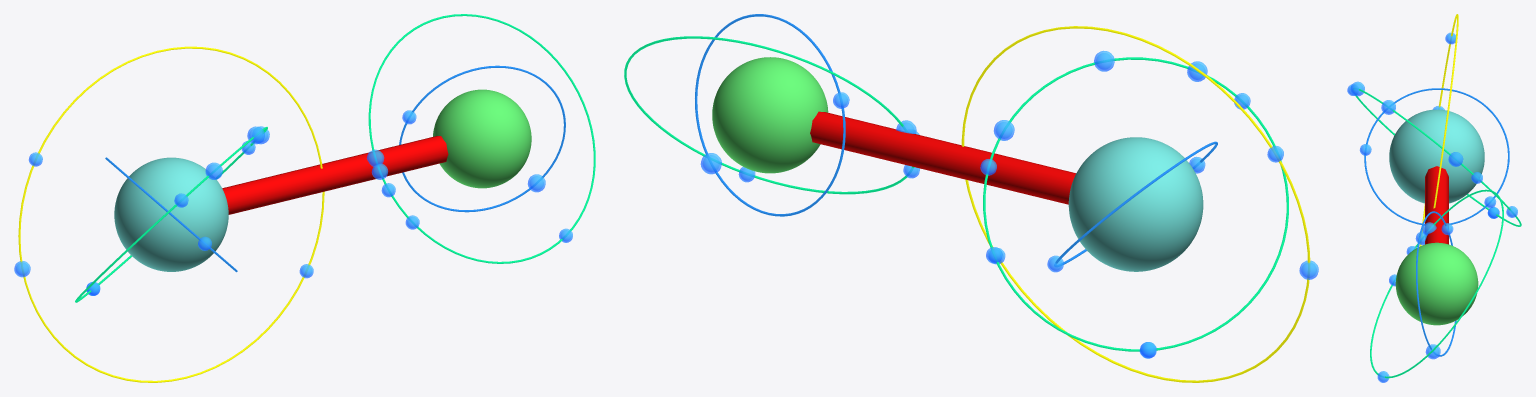
File: AlN.glb
3 renders of one model, left to right at view 1: azimuth 30°, elevation 25°; view 2: azimuth 150°, elevation 25°; view 3: azimuth 270°, elevation 25°, orthographic. The views are drawn at different scales.
Parts seen in each view (by area): view 1: Al, N, object 48, object 24, object 37, object 32, object 7; view 2: Al, N, object 48, object 24, object 7, object 37, object 32, object 2; view 3: Al, N, object 48, object 37, object 2, object 24, object 7, object 32, object 21, object 13, object 23, object 34.
Part boxes in pixels (x1=…): Al: x1=114, y1=157, x2=228, y2=271; N: x1=433, y1=89, x2=531, y2=188; object 48: x1=222, y1=136, x2=448, y2=214; object 24: x1=18, y1=46, x2=324, y2=382; object 37: x1=368, y1=14, x2=595, y2=263; object 32: x1=399, y1=65, x2=565, y2=212; object 7: x1=75, y1=127, x2=267, y2=302; Al: x1=1068, y1=137, x2=1203, y2=271; N: x1=712, y1=57, x2=828, y2=173; object 48: x1=810, y1=111, x2=1075, y2=204; object 24: x1=961, y1=26, x2=1310, y2=382; object 7: x1=983, y1=57, x2=1288, y2=351; object 37: x1=624, y1=36, x2=914, y2=194; object 32: x1=695, y1=14, x2=845, y2=216; object 2: x1=1055, y1=141, x2=1217, y2=264; Al: x1=1389, y1=109, x2=1484, y2=203; N: x1=1395, y1=242, x2=1478, y2=325; object 48: x1=1425, y1=166, x2=1448, y2=244; object 37: x1=1370, y1=189, x2=1503, y2=378; object 2: x1=1364, y1=88, x2=1509, y2=225; object 24: x1=1419, y1=14, x2=1458, y2=246; object 7: x1=1355, y1=89, x2=1521, y2=226; object 32: x1=1416, y1=211, x2=1456, y2=356; object 21: x1=1448, y1=152, x2=1463, y2=166; object 13: x1=1381, y1=100, x2=1395, y2=114; object 23: x1=1350, y1=81, x2=1364, y2=96; object 34: x1=1425, y1=344, x2=1440, y2=359.
Bounding box in the file's own units: 9.3 × 4.78 × 2.91.
